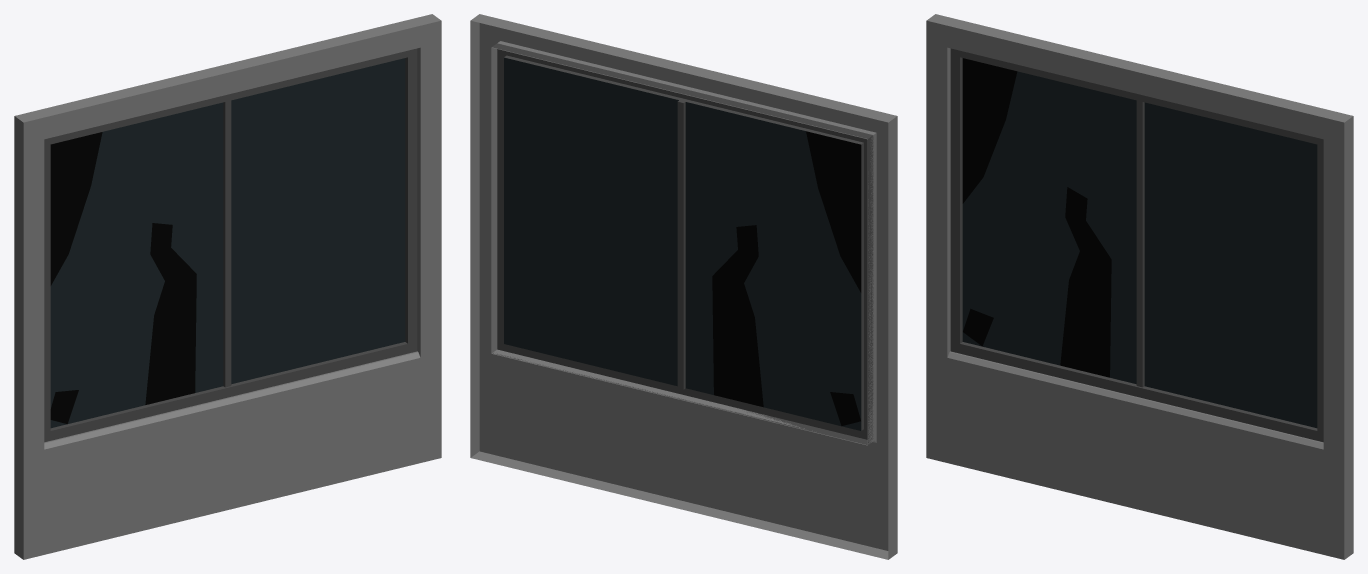
Rendered from front8_b.fbx.
3 views of the same model, side by side, from view 1: azimuth 30°, elevation 25°; view 2: azimuth 150°, elevation 25°; view 3: azimuth 330°, elevation 25° (orthographic).
Visible parts, largest first — view 1: Cube.022; view 2: Cube.022; view 3: Cube.022.
Part boxes in pixels (left/top/right/bottom): Cube.022: left=14, top=14, right=441, bottom=559; Cube.022: left=470, top=14, right=897, bottom=559; Cube.022: left=926, top=14, right=1353, bottom=559.
Size of the model in its own units: 400 by 400 by 15.
